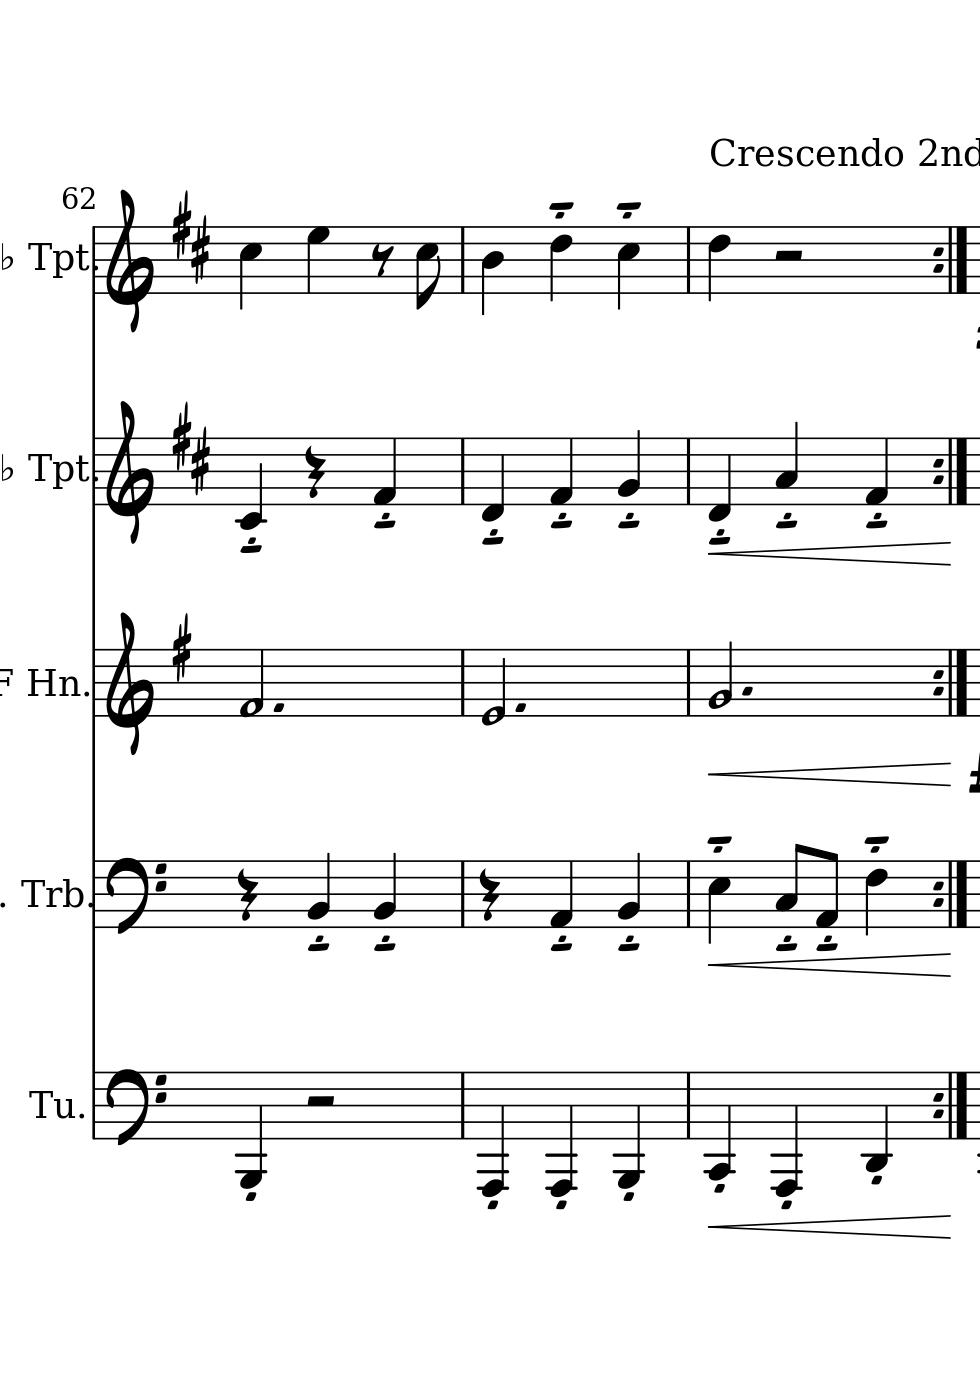2: (78, 185, 97, 212)
2_0: (479, 646, 506, 729)
2_1: (238, 648, 266, 719)
2_2: (706, 641, 733, 718)
4_-1: (479, 435, 505, 524), (706, 435, 731, 523)
4_-2: (235, 435, 264, 531)
4_-3: (861, 1068, 890, 1177)
4_-4: (703, 1069, 734, 1182)
4_-5: (770, 1068, 803, 1198), (235, 1067, 266, 1189), (614, 1068, 644, 1190)
4_-6: (544, 1068, 578, 1196), (476, 1069, 509, 1197)
4_1: (547, 859, 574, 930), (371, 437, 398, 507), (547, 436, 574, 506), (863, 435, 889, 506)
4_2: (305, 850, 332, 929), (371, 850, 398, 929), (615, 850, 642, 929), (615, 428, 641, 506)
4_3: (773, 420, 799, 504)
4_4: (479, 225, 504, 317)
4_5: (238, 225, 263, 311), (615, 225, 640, 312), (706, 859, 731, 946)
4_6: (547, 225, 573, 306), (862, 859, 888, 938), (706, 225, 730, 303)
4_7: (305, 225, 331, 295)
6: (62, 185, 78, 212)
8_1: (813, 849, 839, 930)
8_3: (773, 841, 805, 928)
8_5: (413, 225, 441, 312)
Crescendo_hairpin: (705, 1211, 953, 1247), (715, 760, 953, 790), (707, 540, 950, 567), (708, 951, 953, 978)
D_S: (171, 189, 211, 284), (171, 399, 210, 495)
Fclef: (104, 1065, 169, 1146), (106, 855, 170, 936)
Gclef: (104, 610, 156, 756), (104, 400, 156, 544), (104, 188, 155, 334)
Hn: (24, 664, 78, 703)
Rests2: (302, 1091, 342, 1115), (771, 248, 806, 267)
Rests4: (301, 444, 327, 501), (234, 866, 260, 923), (476, 866, 502, 923)
Rests8: (368, 242, 395, 279)
RightRepeatSign: (931, 1071, 972, 1141), (931, 226, 972, 295), (931, 860, 972, 928), (931, 436, 970, 505), (931, 648, 970, 717)
Sharp: (170, 612, 194, 684)
Single_barline: (681, 227, 697, 292), (455, 1072, 470, 1140), (455, 439, 470, 506), (455, 861, 470, 928), (681, 1073, 696, 1140), (455, 650, 470, 716), (681, 861, 696, 927), (86, 1072, 101, 1138), (455, 226, 470, 291), (681, 650, 696, 715), (87, 861, 102, 926), (87, 649, 101, 717), (681, 439, 695, 505), (88, 225, 101, 296), (88, 437, 101, 506)
Tpt: (27, 448, 89, 491), (27, 236, 87, 278)
Trb: (18, 871, 85, 912)
dot: (270, 699, 286, 716), (511, 700, 528, 714), (738, 685, 754, 698)
